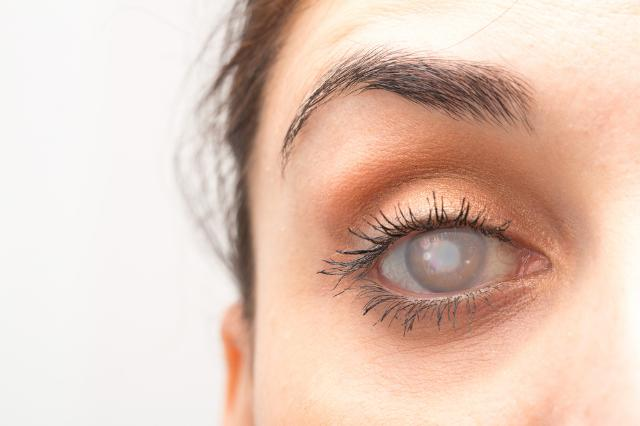eye: (404, 222, 486, 294)
